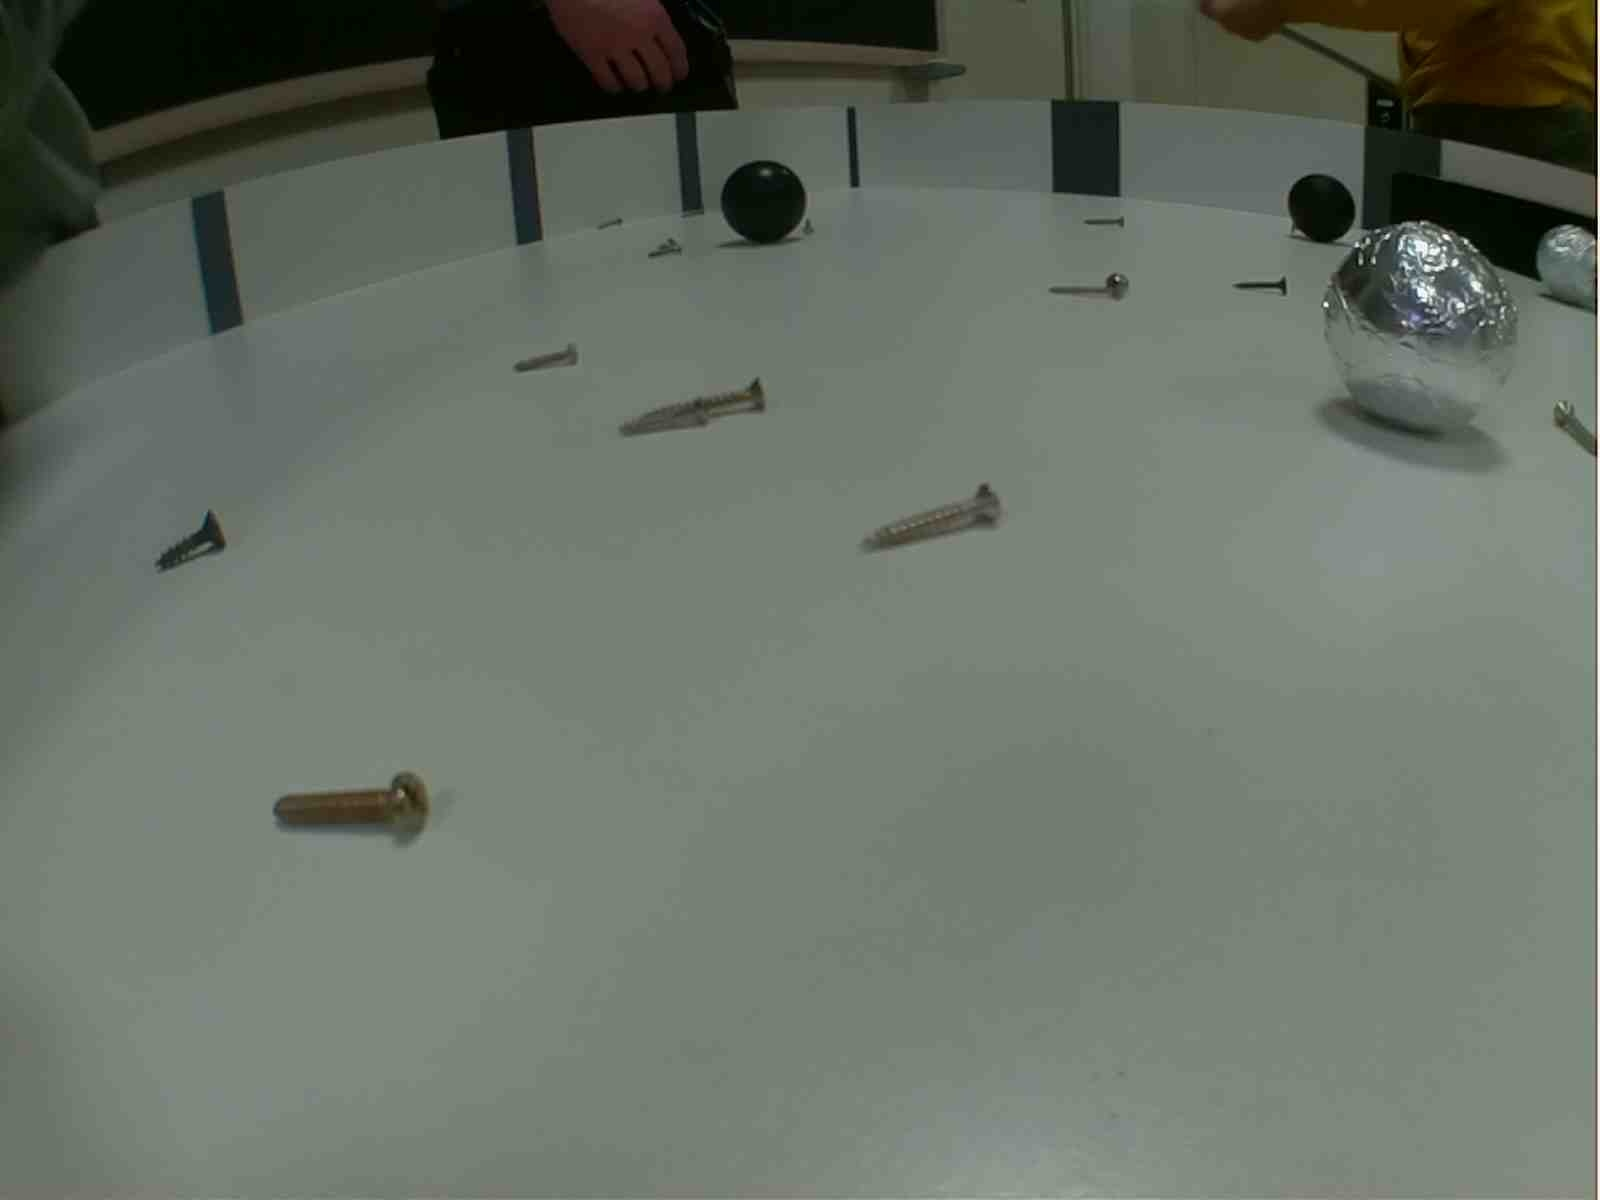bianca: (1314, 218, 1519, 437), (1529, 222, 1600, 308)
nera: (717, 158, 811, 248), (1285, 171, 1359, 245)
